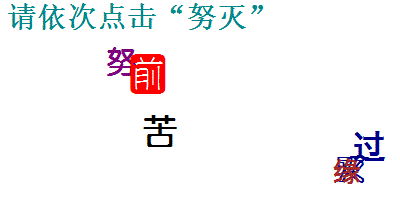result: (187, 1, 248, 32)
text: (129, 51, 168, 96), (142, 112, 178, 148), (354, 130, 389, 162), (105, 47, 134, 79), (336, 155, 366, 184)
